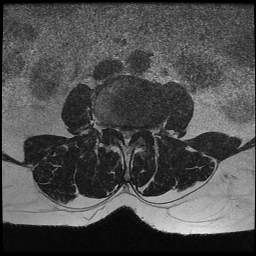CCS_stenosis: (123, 120, 130, 151)
LFS_severe_stenosis: (137, 121, 145, 139)
LLS_stenosis: (130, 122, 137, 144)
RFS_stenosis: (110, 119, 117, 137)
RLS_stenosis: (117, 122, 123, 143)
